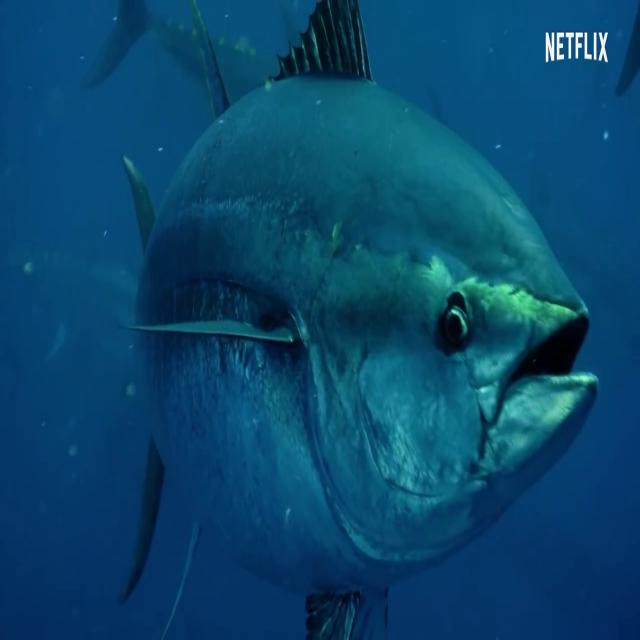fish: (122, 0, 596, 640)
